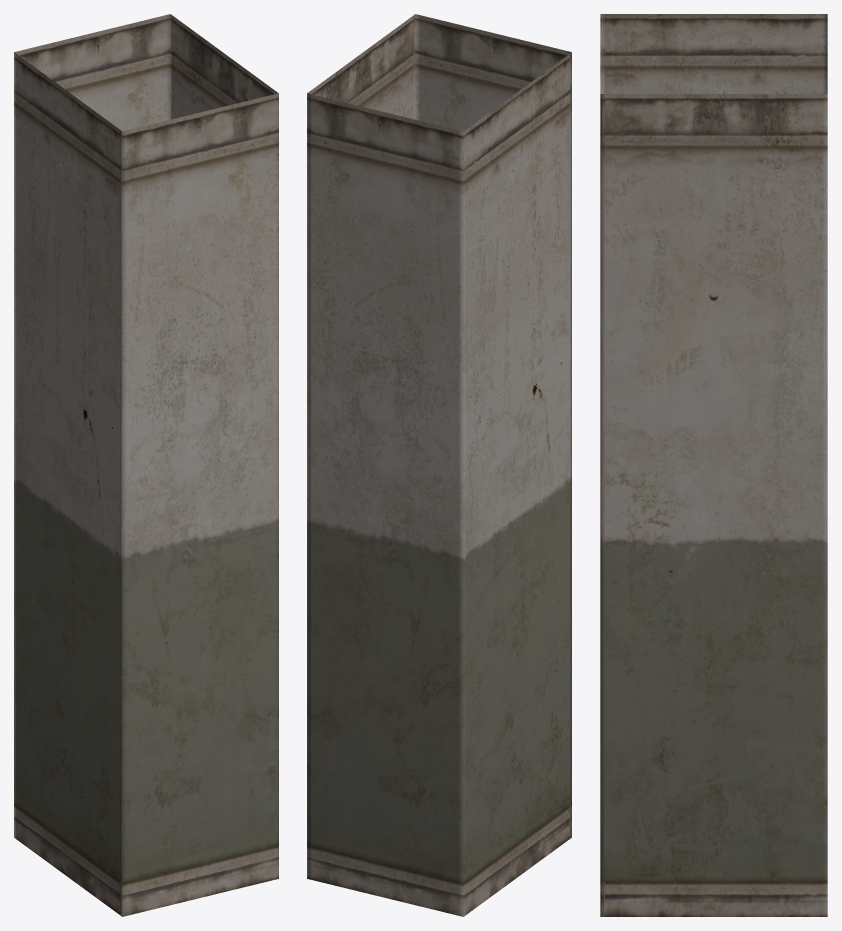
The model's file is wall_pillar_plaster.fbx.
3 views of the same model, side by side, from view 1: azimuth 30°, elevation 25°; view 2: azimuth 150°, elevation 25°; view 3: azimuth 270°, elevation 25° (orthographic). The views are drawn at different scales.
Parts seen in each view (by area): view 1: wall_pillar_plaster; view 2: wall_pillar_plaster; view 3: wall_pillar_plaster.
Boxes of the visible parts, box(x1,y1,x2,y2) form: wall_pillar_plaster: box(14, 14, 278, 916); wall_pillar_plaster: box(307, 14, 571, 916); wall_pillar_plaster: box(600, 14, 827, 916).
Size of the model in its own units: 0.4 by 1.92 by 0.48.
